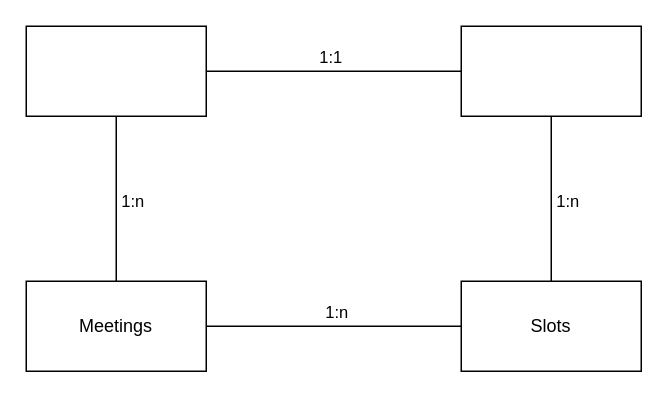
Some shapes in this 668 by 398 pixel diagram are drawn without their labels. The shapes that lost their labels are listed below. From the top down, each one's centre as x and y in pixels, then its label:
the point at 115,70: Users
the point at 550,70: Calendar
